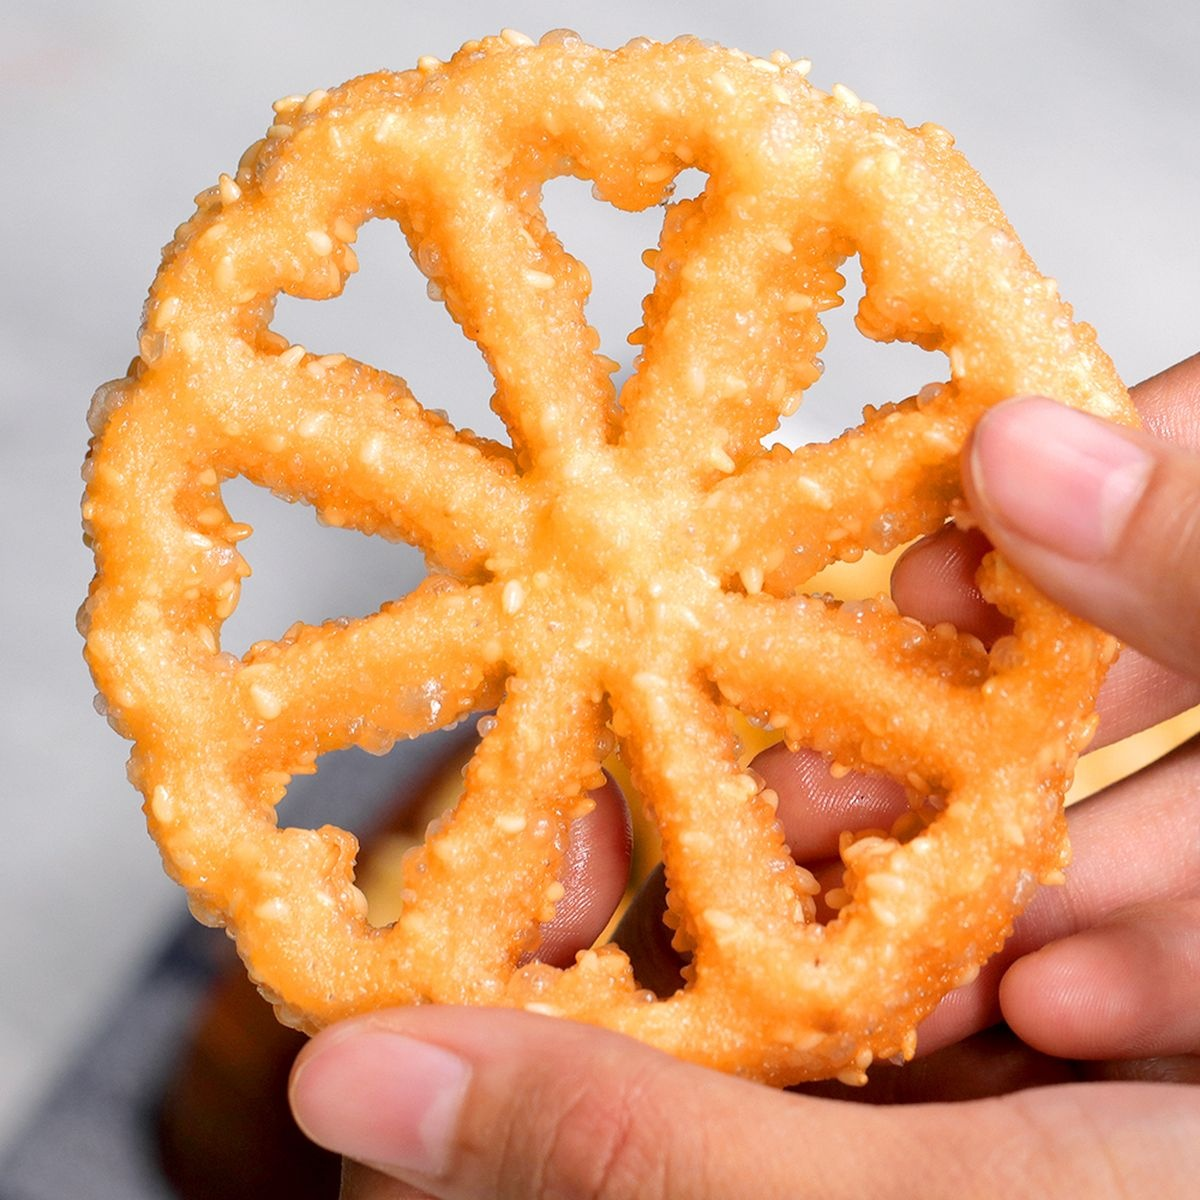kembang_goyang: (78, 23, 1057, 1092)
